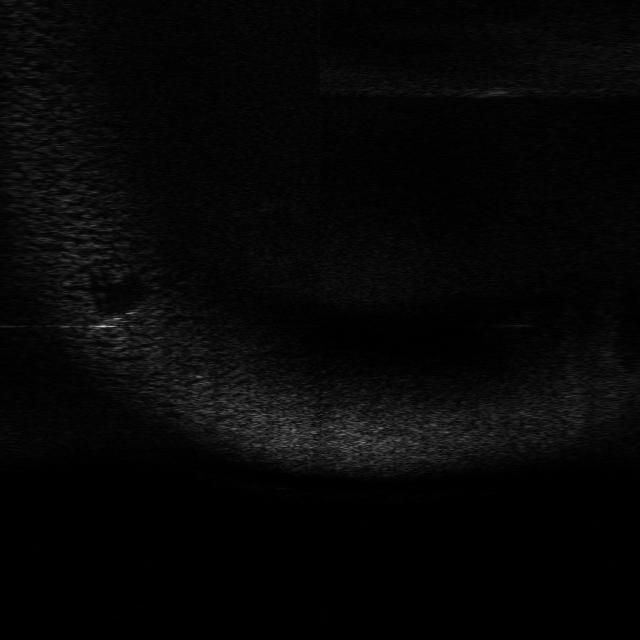plane: (79, 303, 147, 337)
